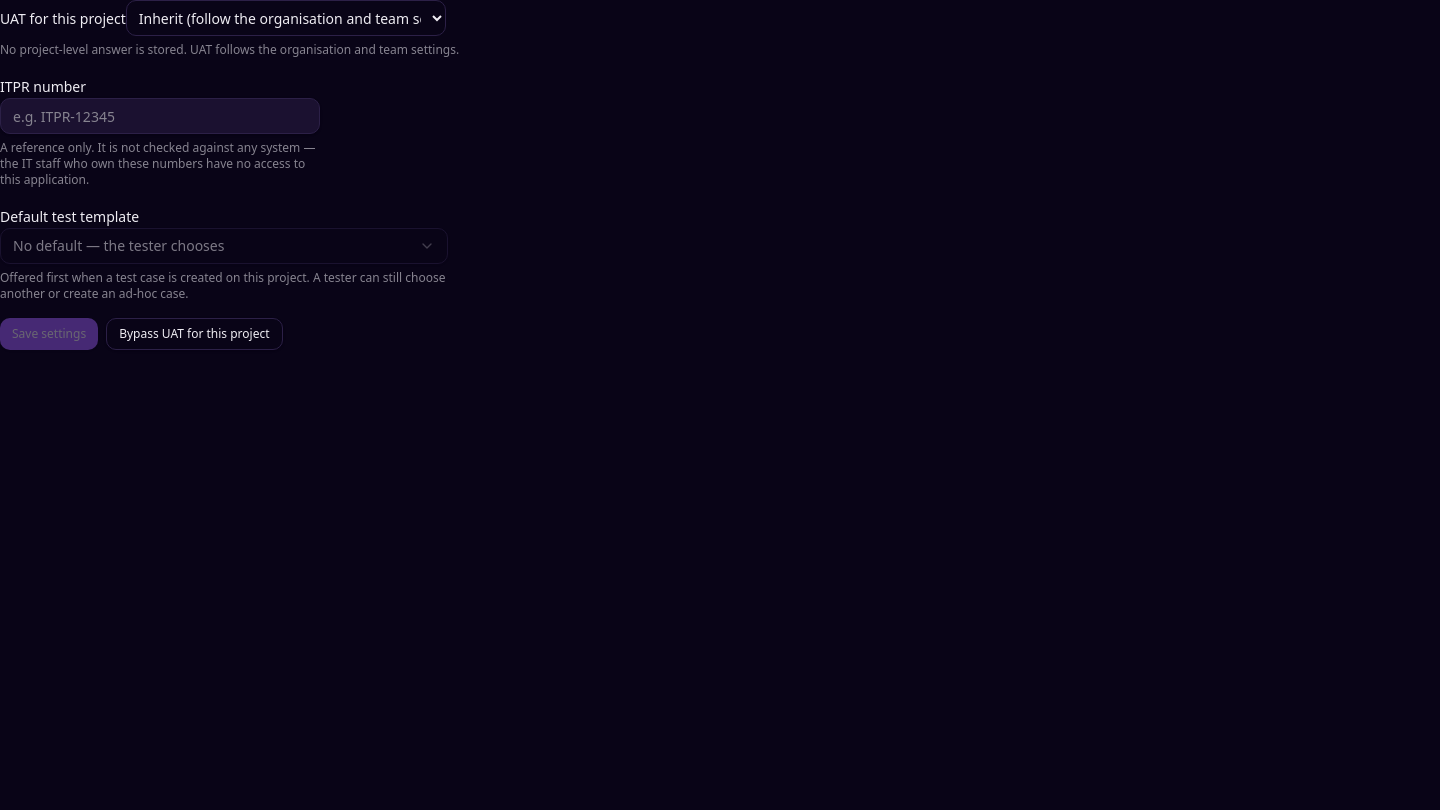
Test case: the bypass writes one risk, one decision and one flag from one reason (T045) › refuses a reason too short for anyone reading the risk register to use
Click the button "Bypass UAT for this project".
click(194, 334)  # box [106,318,282,350]
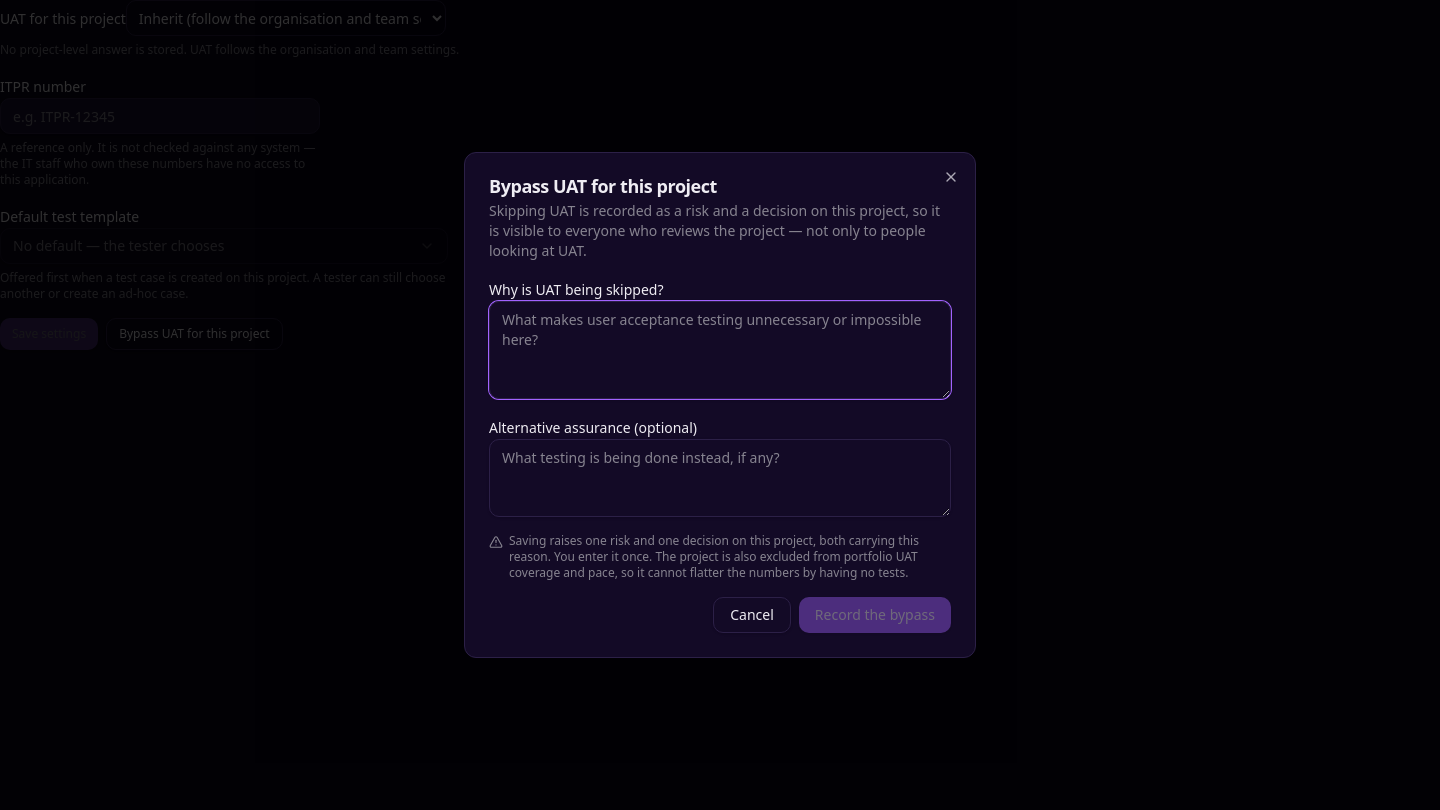
Replace the text in the text box labelled "Why is UAT being skipped?" with "no time" at (720, 350), box [489,301,951,399]
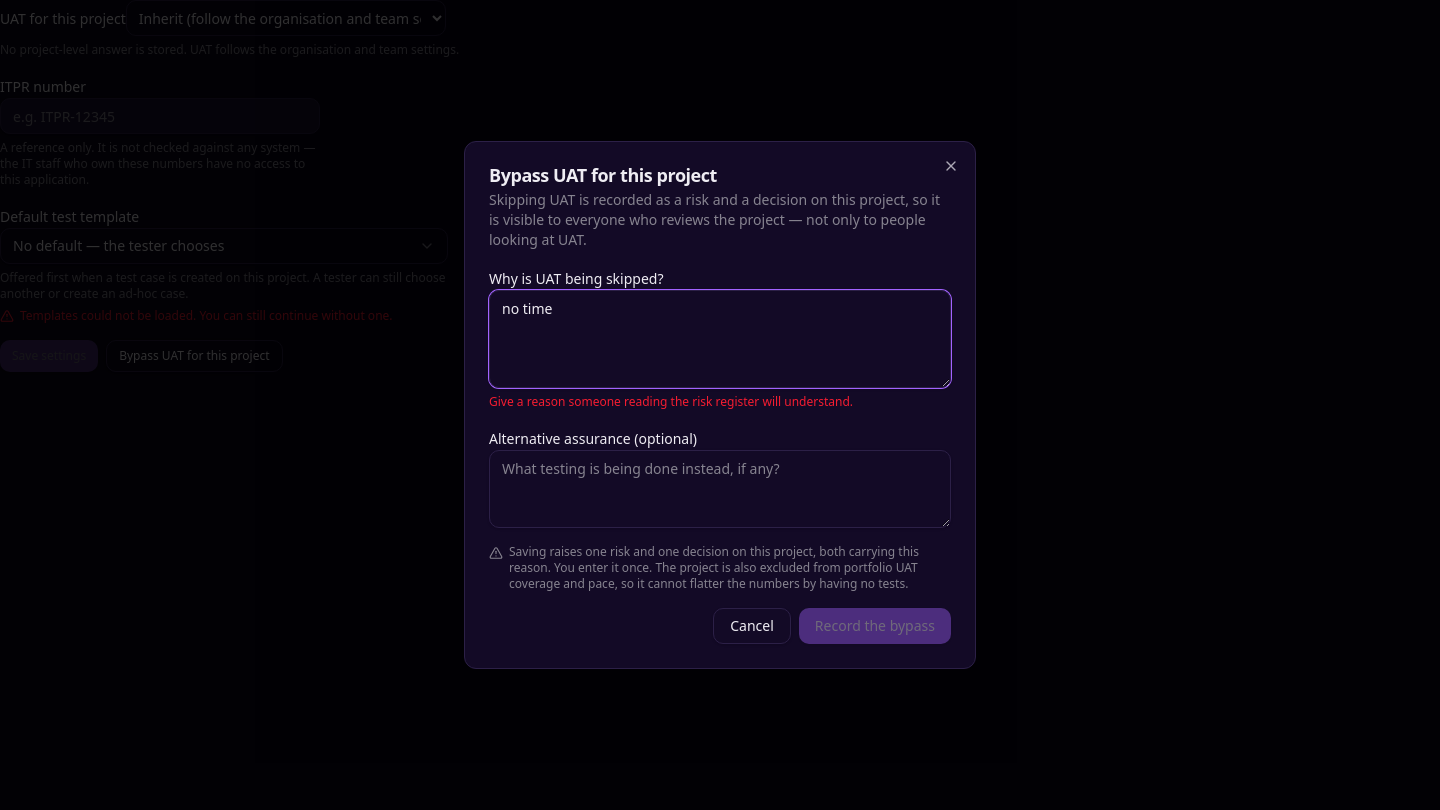
Expected: the button "Record the bypass" is disabled, [799,608,951,644]
Expected: the message shows "someone reading the risk register", [489,393,853,410]
